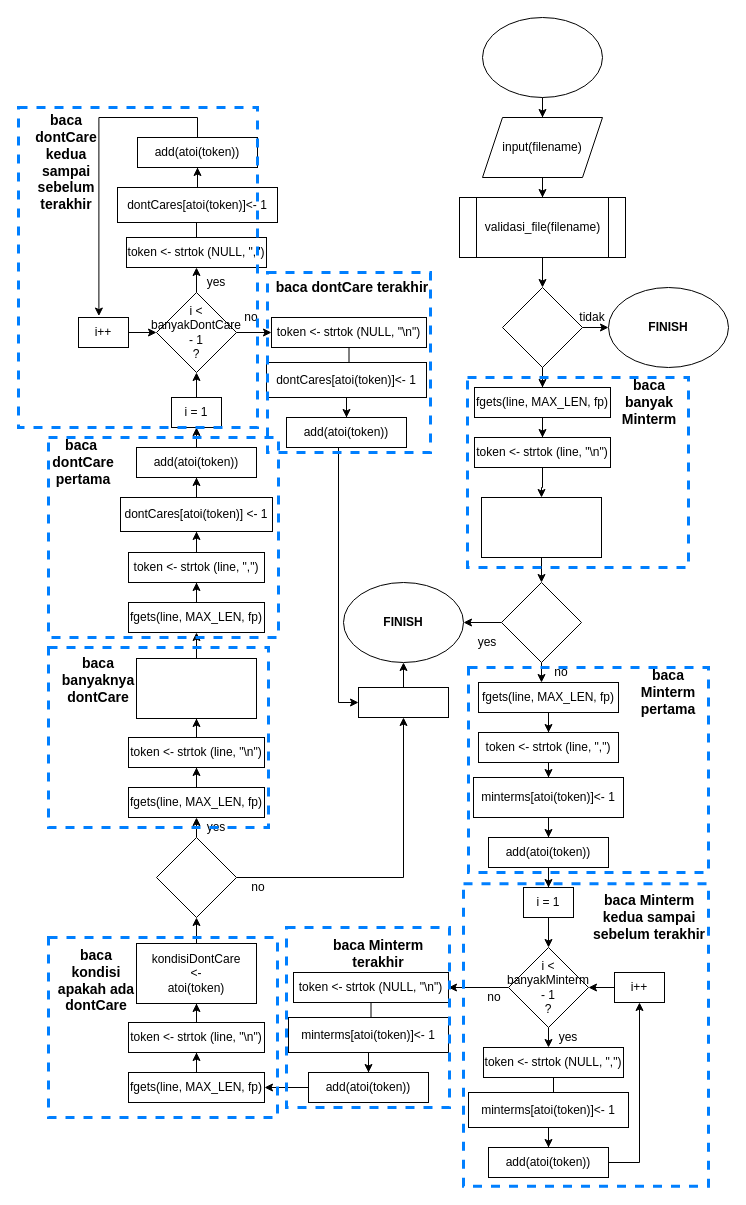
The diagram is 746 pixels wide and 1205 high, and some of its shapes have lost their labels. Each missing label, with the centre of its shape:
"banyakDontCare <- atoi(token)" goes at point 196,688.
"banyakMinterm <- atoi(token)" goes at point 541,527.
"banyakMinterm = 0 ?" goes at point 541,622.
"fclose(fp)" goes at point 403,702.
"file valid?" goes at point 542,327.
"kondisiDontCare = 1?" goes at point 196,877.
"START" goes at point 542,57.
